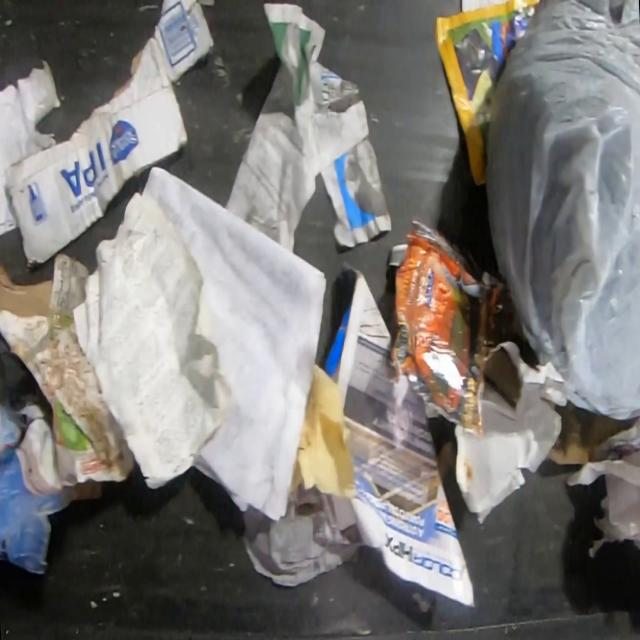cardboard: (6, 0, 216, 262), (0, 264, 135, 495), (545, 400, 640, 465)
soft_plastic: (487, 0, 640, 422), (387, 215, 524, 436)
